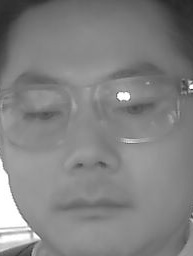glass: (97, 75, 183, 145), (1, 81, 77, 150)
mouth: (51, 188, 124, 226)
